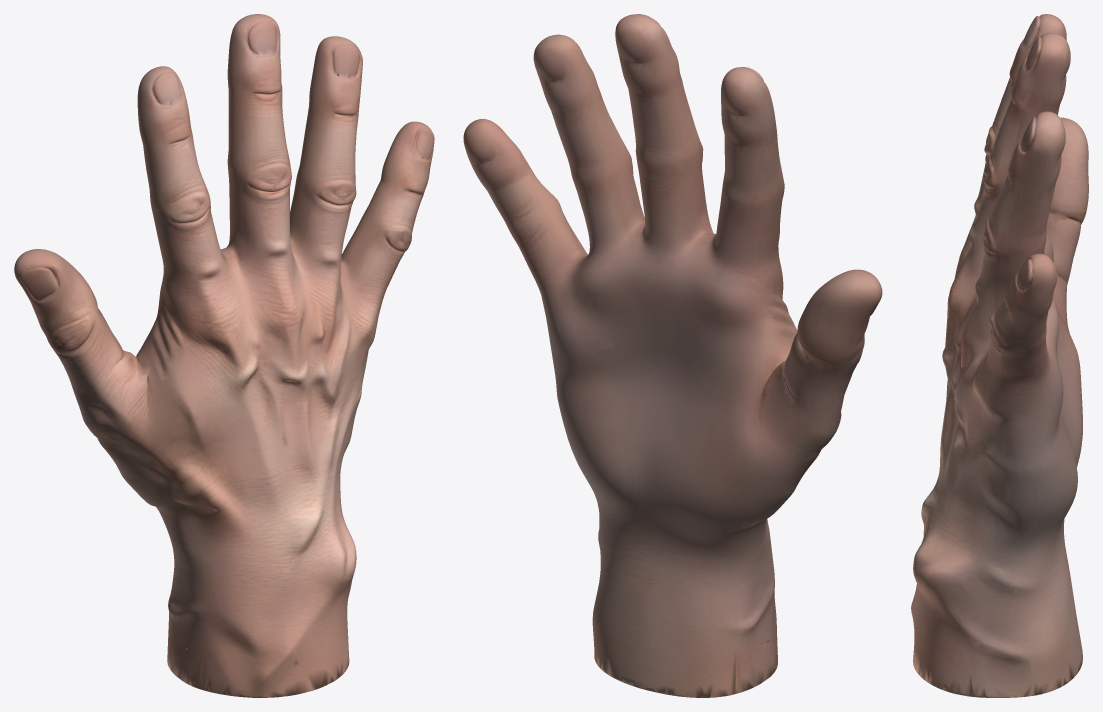
File: ref-hand.glb
The picture shows the model from 3 angles, left to right: view 1: azimuth 30°, elevation 25°; view 2: azimuth 150°, elevation 25°; view 3: azimuth 270°, elevation 25°; orthographic projection. The views are drawn at different scales.
Visible parts, largest first — view 1: node_0; view 2: node_0; view 3: node_0.
Part boxes in pixels (x1=…): node_0: x1=14, y1=14, x2=434, y2=697; node_0: x1=463, y1=14, x2=882, y2=697; node_0: x1=911, y1=14, x2=1088, y2=697.
Size of the model in its own units: 0.7835 by 1.15 by 0.2927.
1 material, 1 textured.
